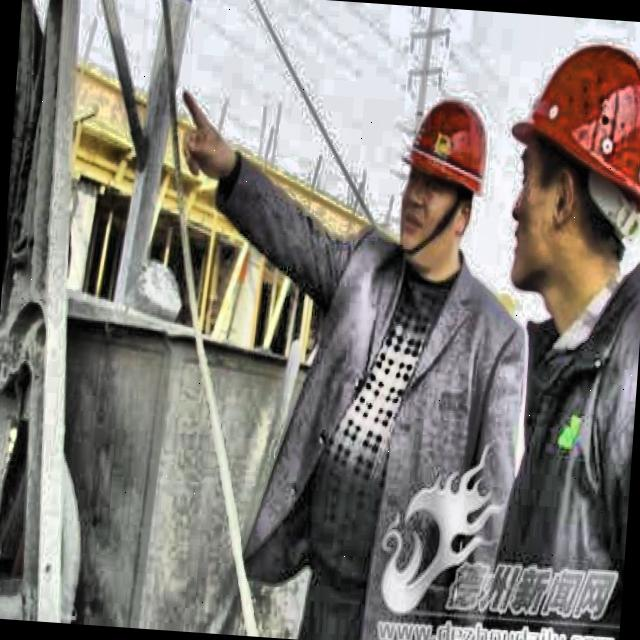helmet: (483, 12, 640, 334), (384, 64, 500, 290)
